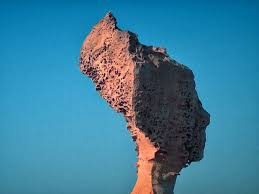yehliu: (73, 10, 224, 166)
